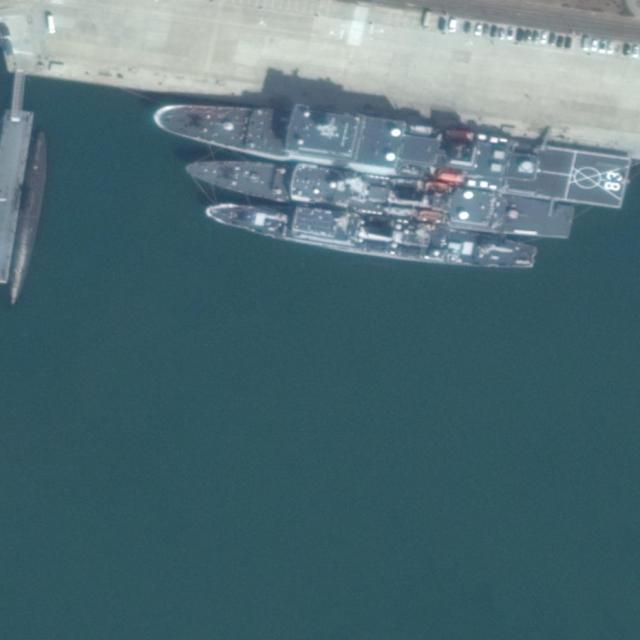Auxiliary Ships: (145, 78, 631, 213), (180, 143, 577, 249), (200, 189, 539, 281)
Submarine: (4, 129, 52, 309)
